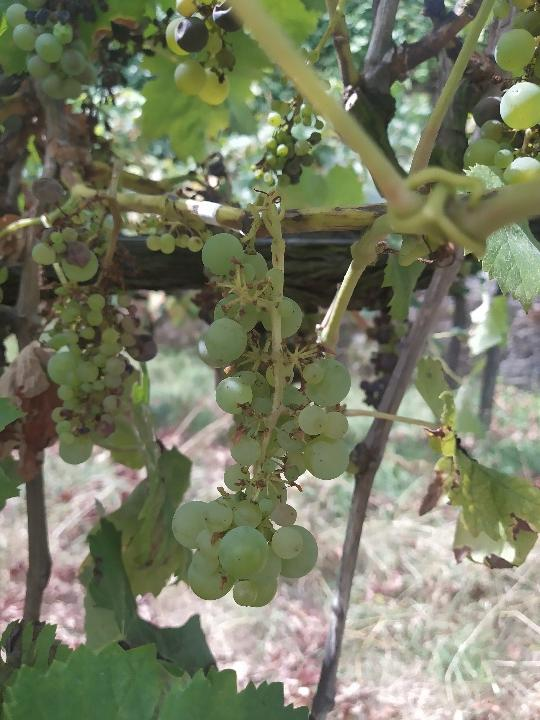grape: (168, 230, 354, 611)
